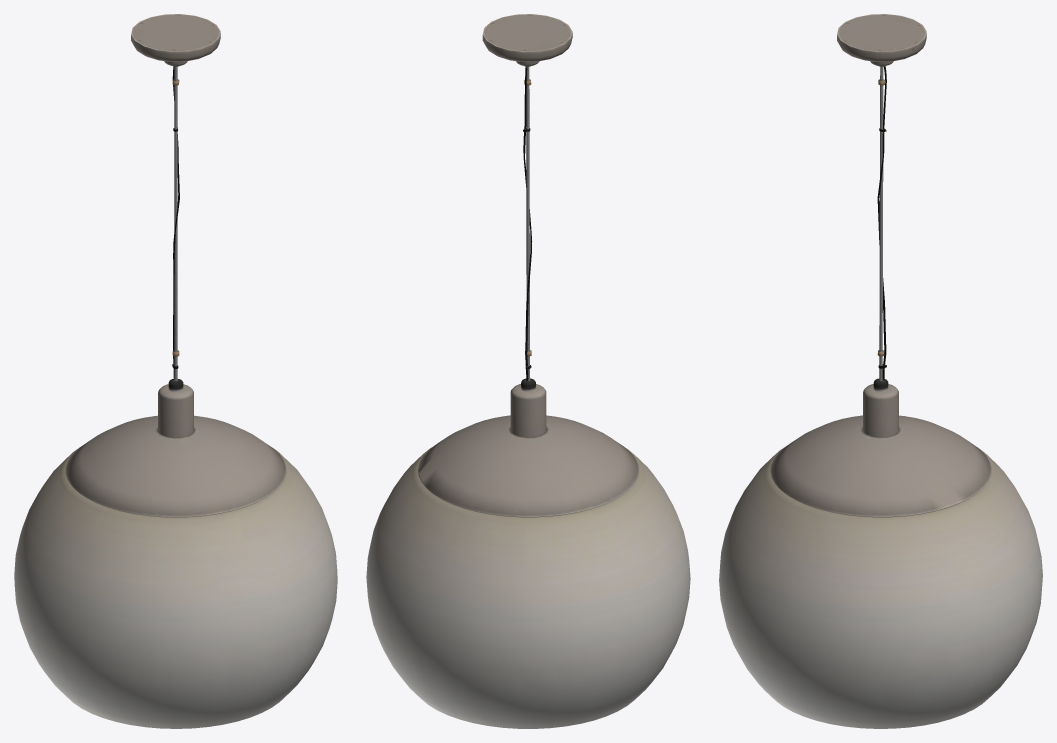
The model's file is pendant.glb.
3 views of the same model, side by side, from view 1: azimuth 30°, elevation 25°; view 2: azimuth 150°, elevation 25°; view 3: azimuth 270°, elevation 25° (orthographic).
Visible parts, largest first — view 1: modern_ceiling_lamp_01; view 2: modern_ceiling_lamp_01; view 3: modern_ceiling_lamp_01.
Part boxes in pixels (bbox=[...]): modern_ceiling_lamp_01: bbox=[14, 14, 337, 728]; modern_ceiling_lamp_01: bbox=[366, 14, 690, 728]; modern_ceiling_lamp_01: bbox=[719, 14, 1042, 728].
Size of the model in its own units: 0.4316 by 0.9512 by 0.4316.
Materials: 2 (2 with a texture image).
